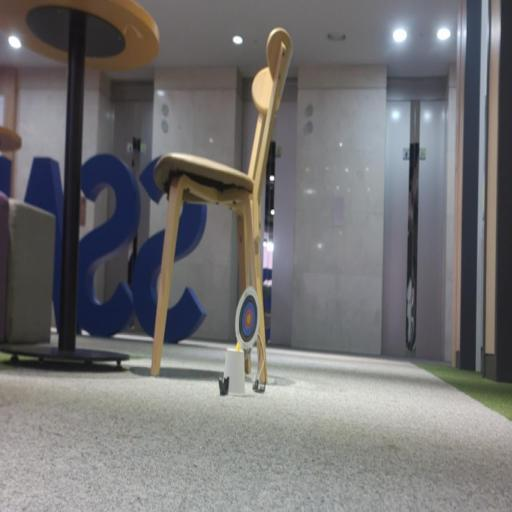target: (235, 287, 260, 350)
